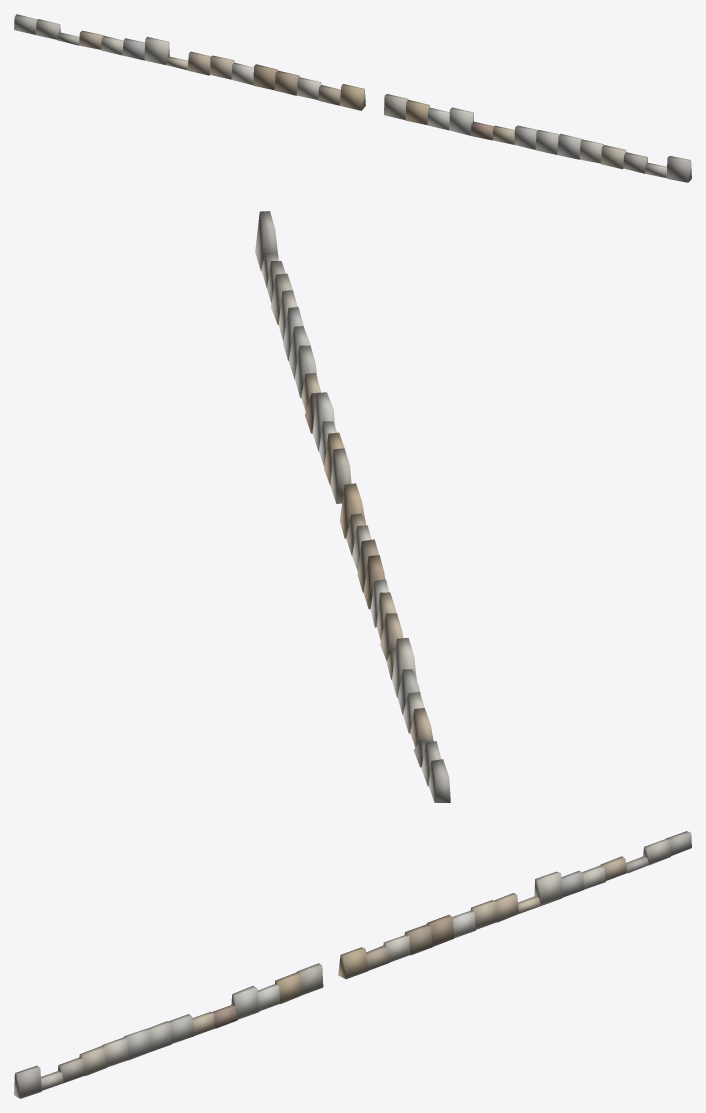
Rendered from farm_6_21_far.glb.
3 renders of one model, top to bottom at view 1: azimuth 30°, elevation 25°; view 2: azimuth 150°, elevation 25°; view 3: azimuth 270°, elevation 25°, orthographic. The views are drawn at different scales.
Parts seen in each view (by area): view 1: geometry_0; view 2: geometry_0; view 3: geometry_0.
Boxes of the visible parts, x1,y1,x2,y2 form: geometry_0: [14, 14, 691, 182]; geometry_0: [255, 211, 450, 802]; geometry_0: [14, 831, 691, 1098].
Size of the model in its own units: 29.86 by 3.36 by 39.36.
